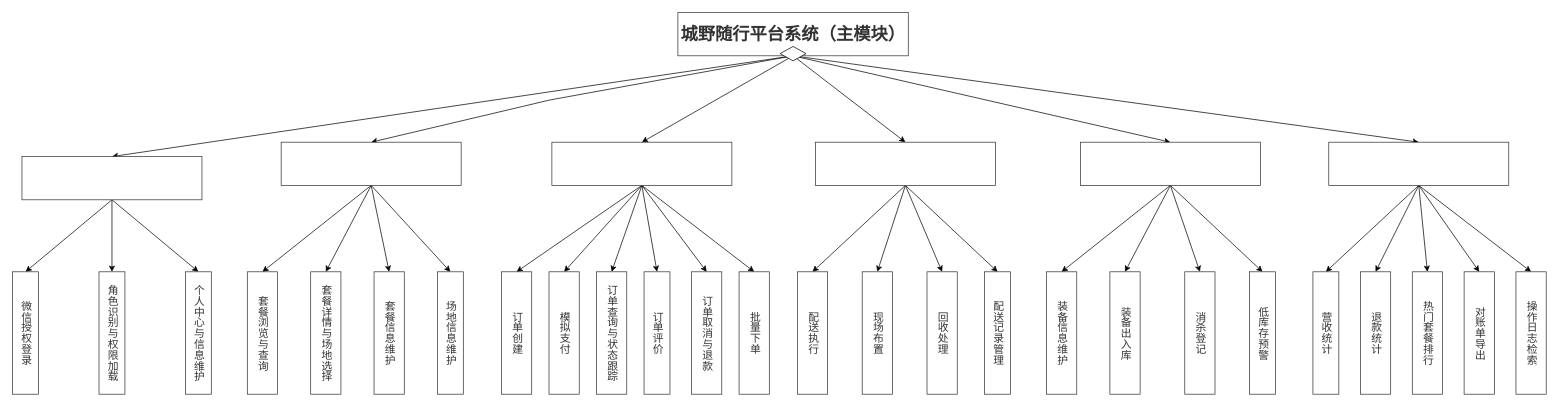
The diagram is 1559 pixels wide and 407 high, and some of its shapes have lost their labels. The centre of each missing label's shape, as x and y in pixels:
"套餐与场地模块" belongs at [370,163].
"用户服务模块" belongs at [111,178].
"装备管理模块" belongs at [1170,163].
"订单服务模块" belongs at [641,163].
"财务与日志模块" belongs at [1418,163].
"配送调度模块" belongs at [905,163].
